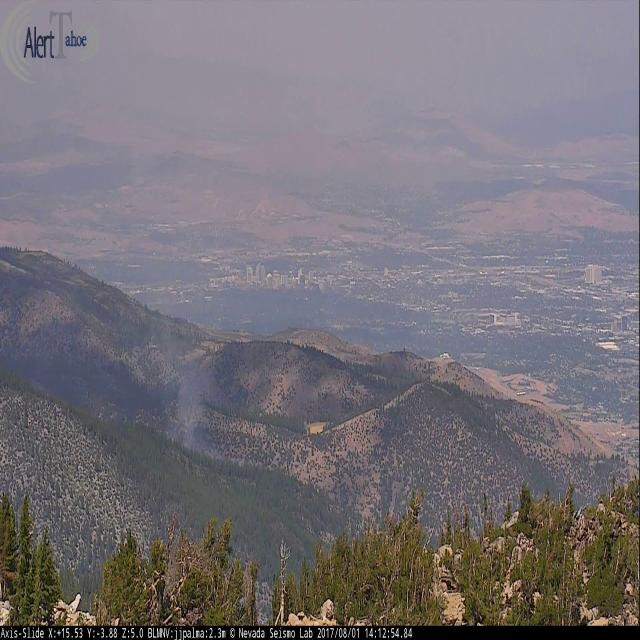smoke: (158, 314, 230, 461)
